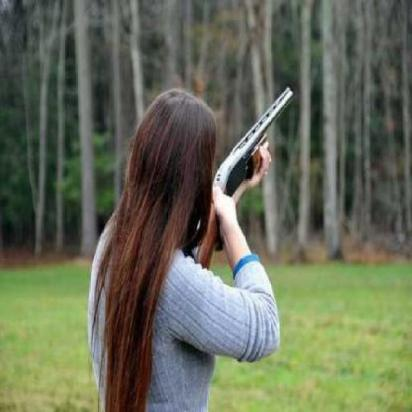Gun: (192, 84, 301, 278)
